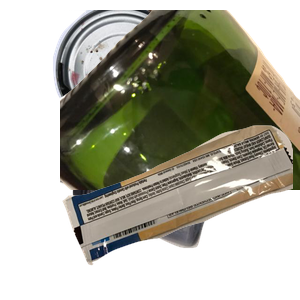glass: (60, 10, 300, 190)
metal: (50, 10, 262, 140)
plastic: (58, 162, 261, 300)
trash: (60, 123, 300, 300)
